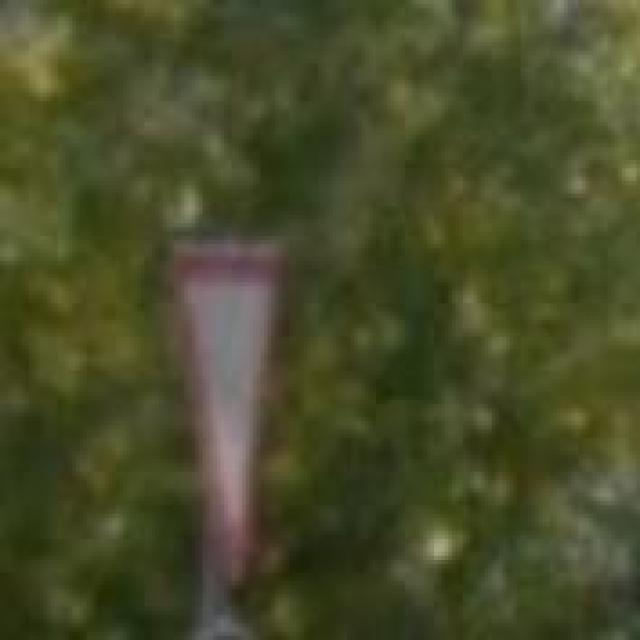Ustap pierwszenstwa: (166, 244, 286, 585)
